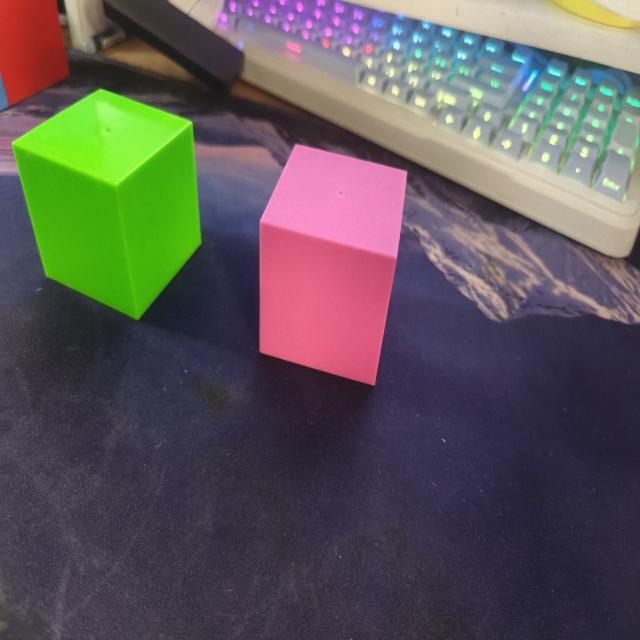green: (9, 79, 206, 322)
pink: (242, 137, 411, 399)
